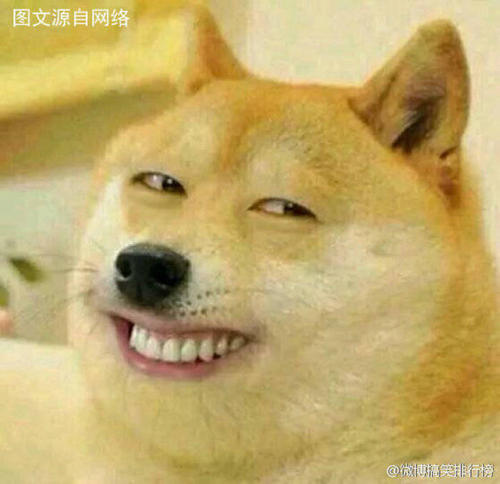dog: (45, 23, 490, 405)
